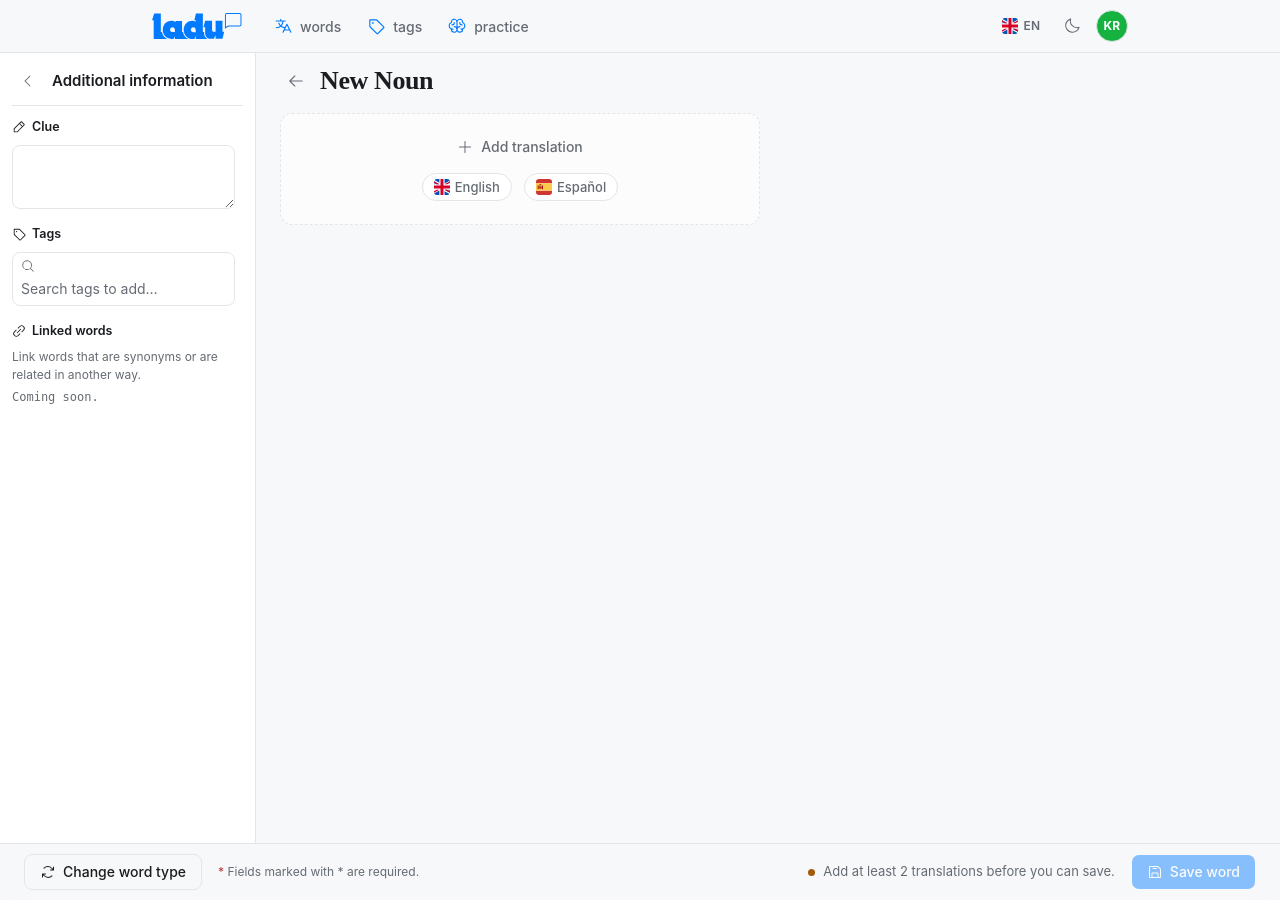
Test: AddWordPage › Change word type returns to the gate and resets the title
expect the heading "New Noun" is shown: met, box left=320, top=66, right=433, bottom=96
Click the button "Change word type" at (113, 872), box left=24, top=854, right=202, bottom=890
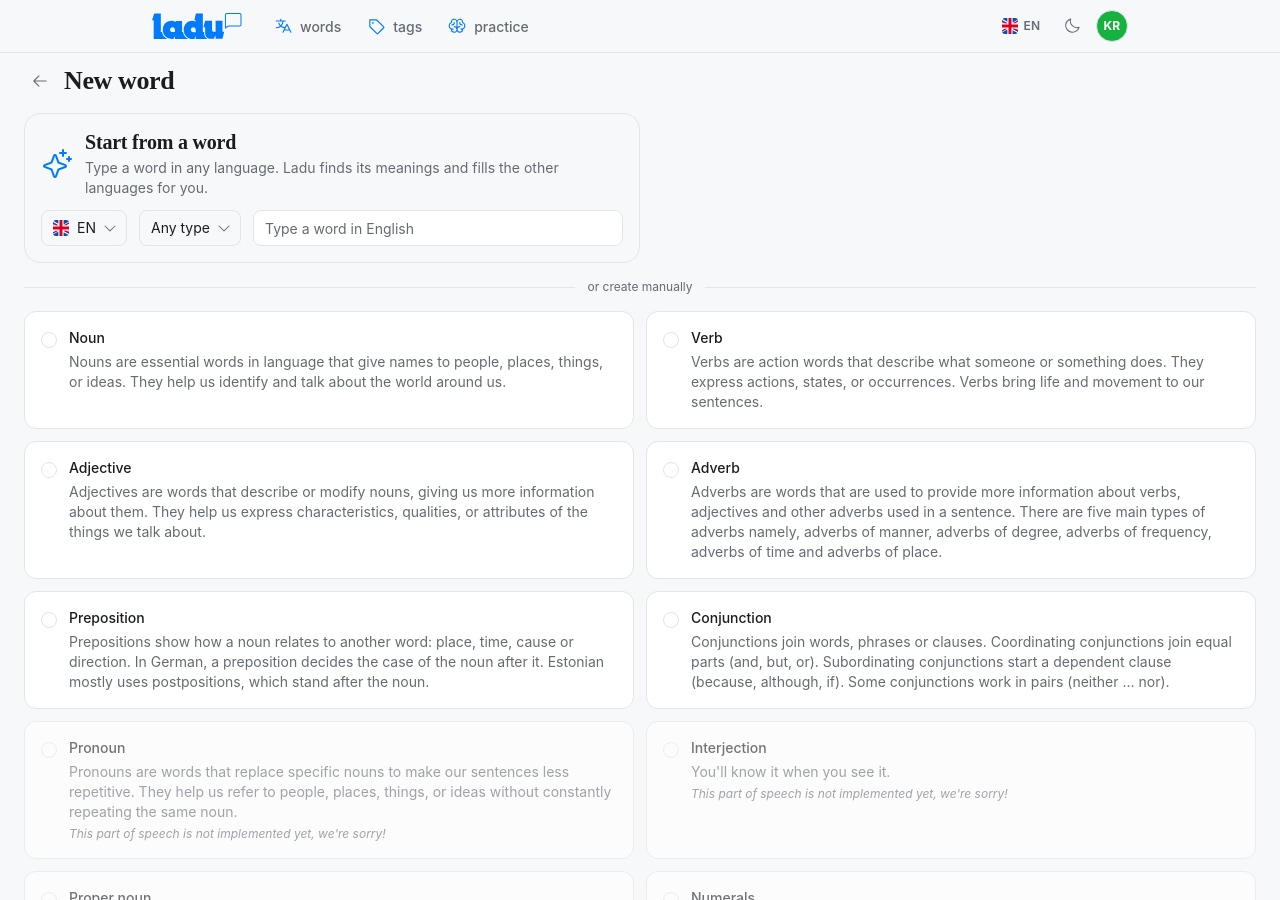
expect the heading "New word" is shown: met, box left=64, top=66, right=174, bottom=96
